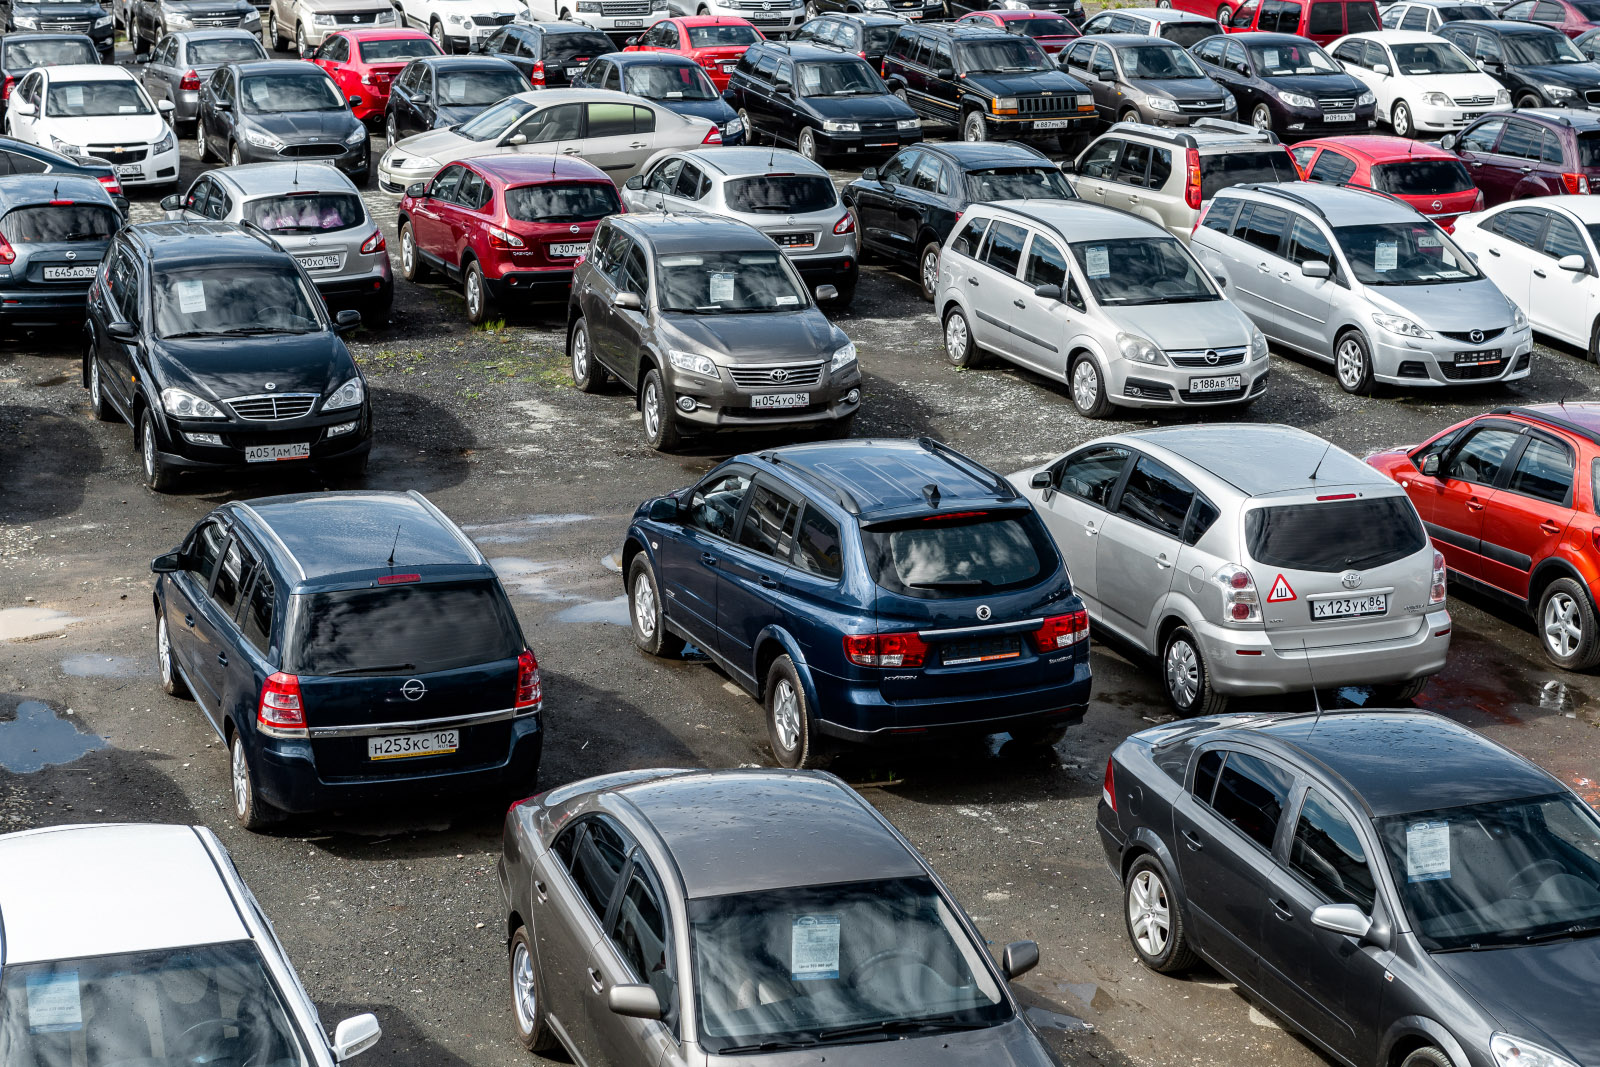Car: (1096, 710, 1600, 1063), (499, 769, 1056, 1067), (621, 437, 1090, 767), (152, 492, 543, 828), (1011, 424, 1451, 716), (0, 824, 381, 1067), (83, 221, 373, 491), (933, 200, 1269, 417), (1190, 182, 1532, 394), (565, 216, 862, 449), (1369, 403, 1600, 670), (160, 163, 394, 325), (399, 155, 621, 324), (377, 91, 724, 196), (626, 149, 860, 305), (843, 143, 1074, 299), (885, 26, 1099, 154), (1069, 119, 1298, 236), (1454, 196, 1600, 362), (729, 43, 923, 163), (6, 65, 180, 187), (196, 62, 370, 181), (1323, 32, 1512, 136), (0, 176, 123, 333), (1193, 35, 1375, 136), (1293, 135, 1485, 229), (1046, 35, 1237, 126), (576, 54, 744, 145), (1440, 110, 1600, 205), (1438, 21, 1600, 110), (385, 57, 529, 146), (143, 30, 265, 133), (314, 30, 442, 123), (625, 15, 762, 89), (0, 137, 129, 213), (482, 23, 615, 88), (0, 35, 101, 110), (270, 0, 399, 56), (126, 0, 261, 52), (0, 0, 115, 60), (395, 0, 526, 52), (1229, 0, 1380, 44), (798, 14, 910, 68), (525, 0, 668, 40), (670, 0, 804, 40), (1083, 8, 1223, 46), (960, 11, 1077, 54), (1382, 0, 1495, 32), (1499, 0, 1600, 35), (948, 0, 1086, 24), (806, 0, 950, 21), (1156, 0, 1248, 26), (1573, 29, 1600, 65), (112, 0, 130, 30)
